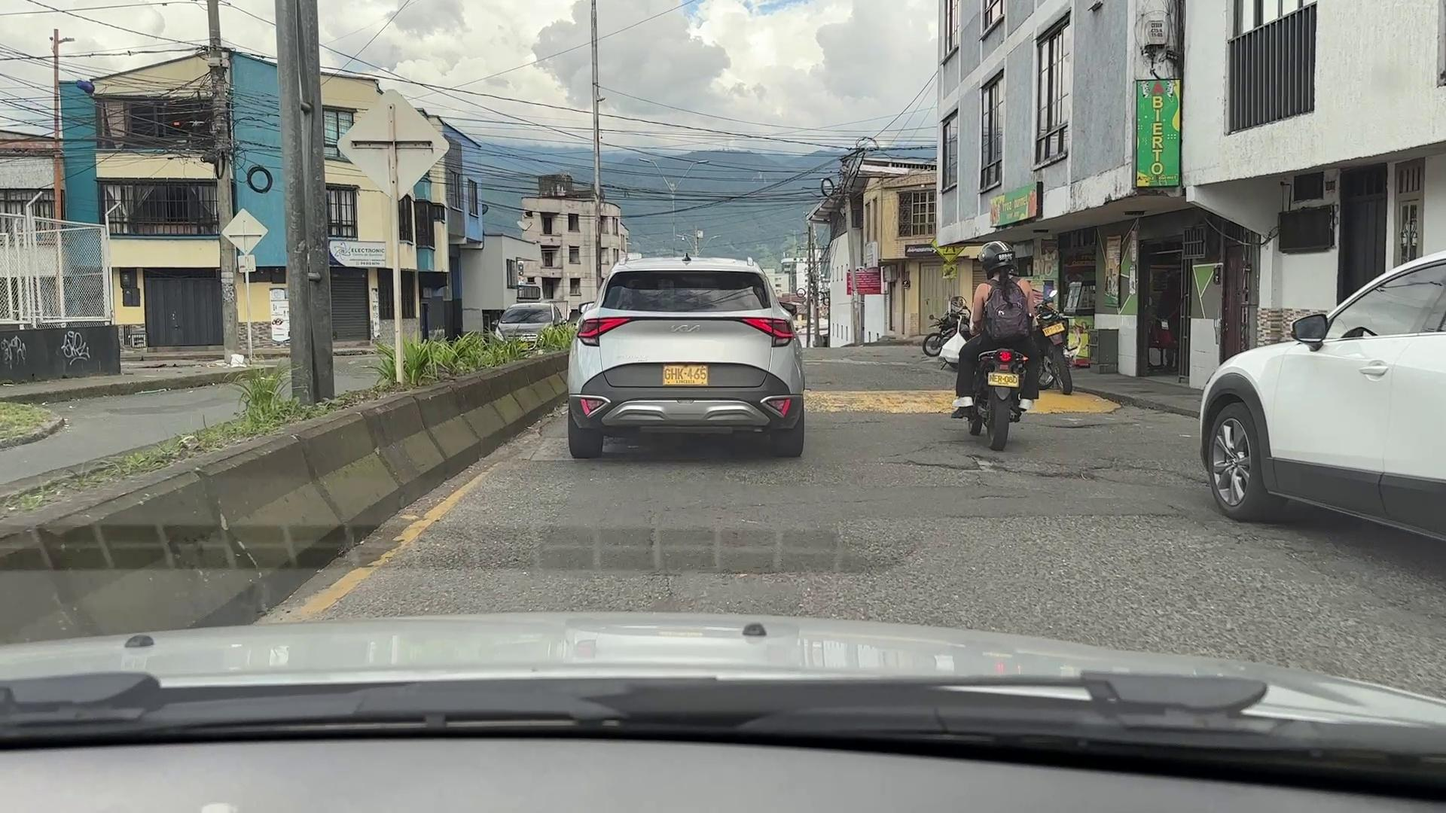bache: (899, 455, 1094, 480), (1040, 424, 1102, 429)
